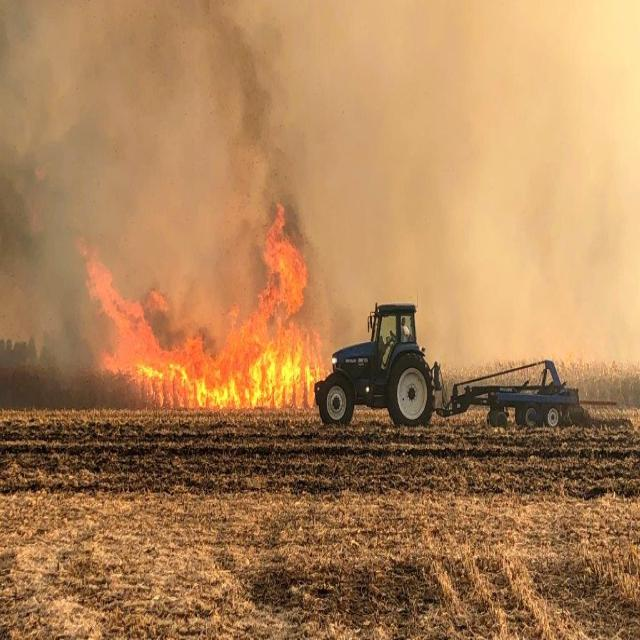fire: (143, 338, 320, 404), (267, 221, 306, 311)
